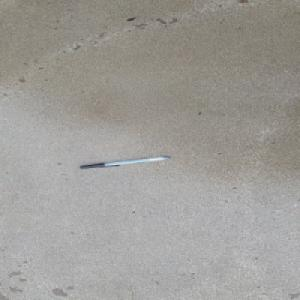Pen: (78, 155, 170, 169)
